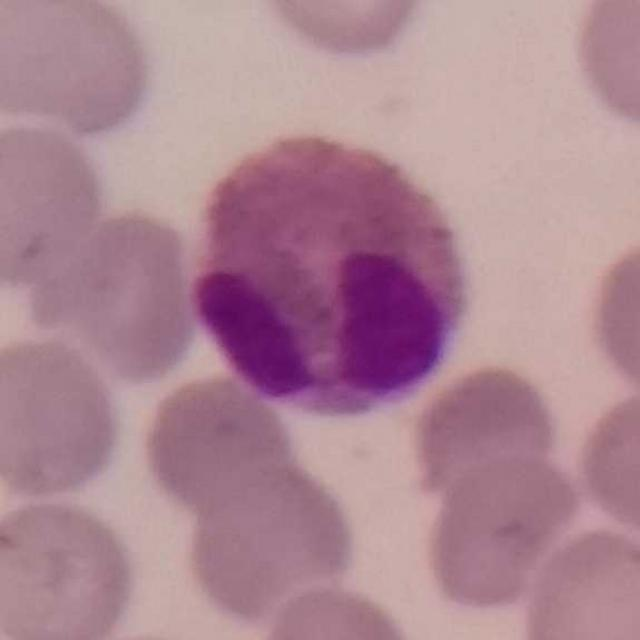Eosinophil: (179, 117, 474, 430)
RBC: (179, 454, 362, 627), (39, 202, 207, 385), (417, 447, 586, 618), (405, 357, 571, 519), (135, 367, 299, 520), (0, 0, 164, 139), (0, 330, 129, 506), (0, 493, 142, 640), (0, 113, 111, 291), (516, 521, 639, 640), (240, 0, 443, 66), (572, 383, 640, 551), (581, 225, 640, 408), (563, 1, 640, 139), (249, 580, 426, 640)
